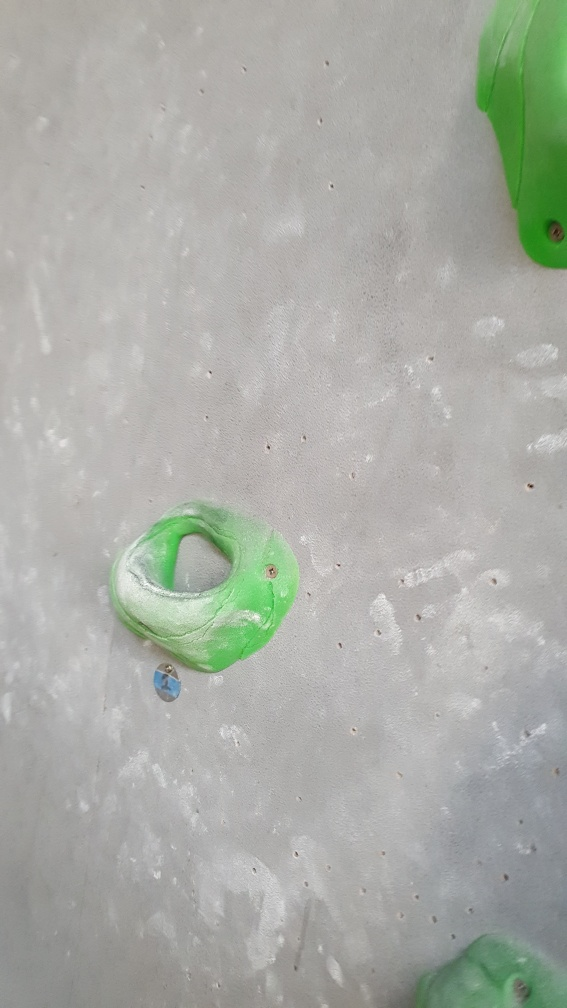Hand Start: (148, 657, 183, 706)
Pocket: (103, 496, 305, 676)
